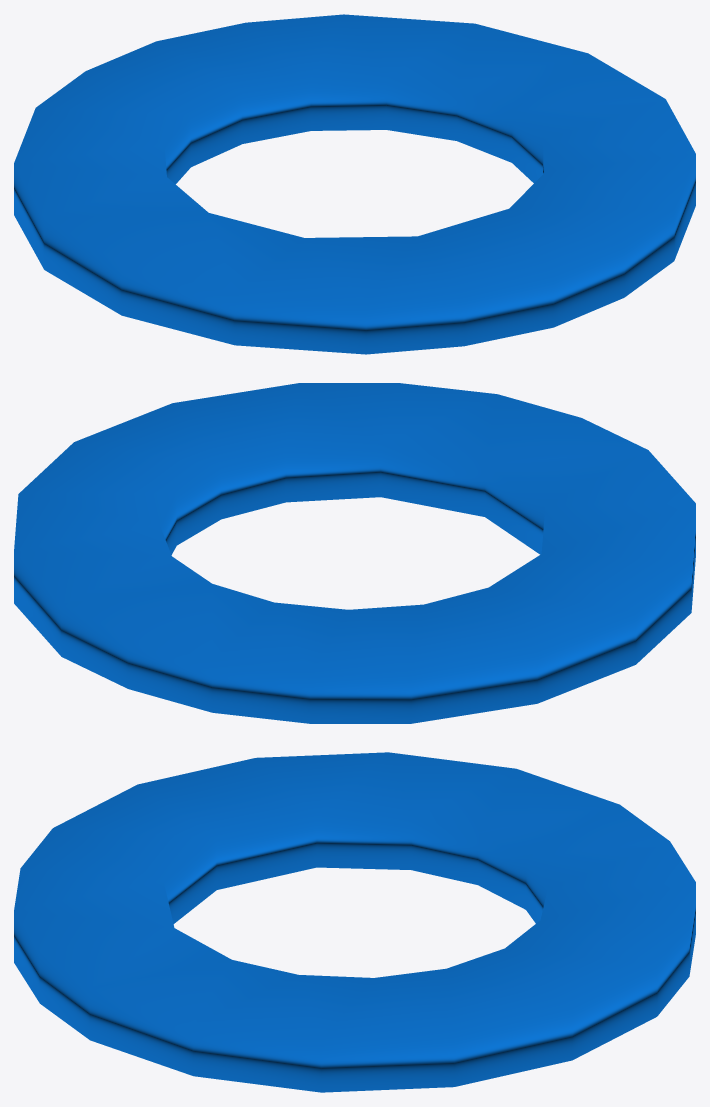
Rendered from cursor.fbx.
3 renders of one model, top to bottom at view 1: azimuth 30°, elevation 25°; view 2: azimuth 150°, elevation 25°; view 3: azimuth 270°, elevation 25°, orthographic.
Parts seen in each view (by area): view 1: Cylinder; view 2: Cylinder; view 3: Cylinder.
Part boxes in pixels (bbox=[...]): Cylinder: bbox=[14, 14, 695, 354]; Cylinder: bbox=[14, 383, 695, 723]; Cylinder: bbox=[14, 752, 695, 1092].
Size of the model in its own units: 200 by 200 by 16.85.
